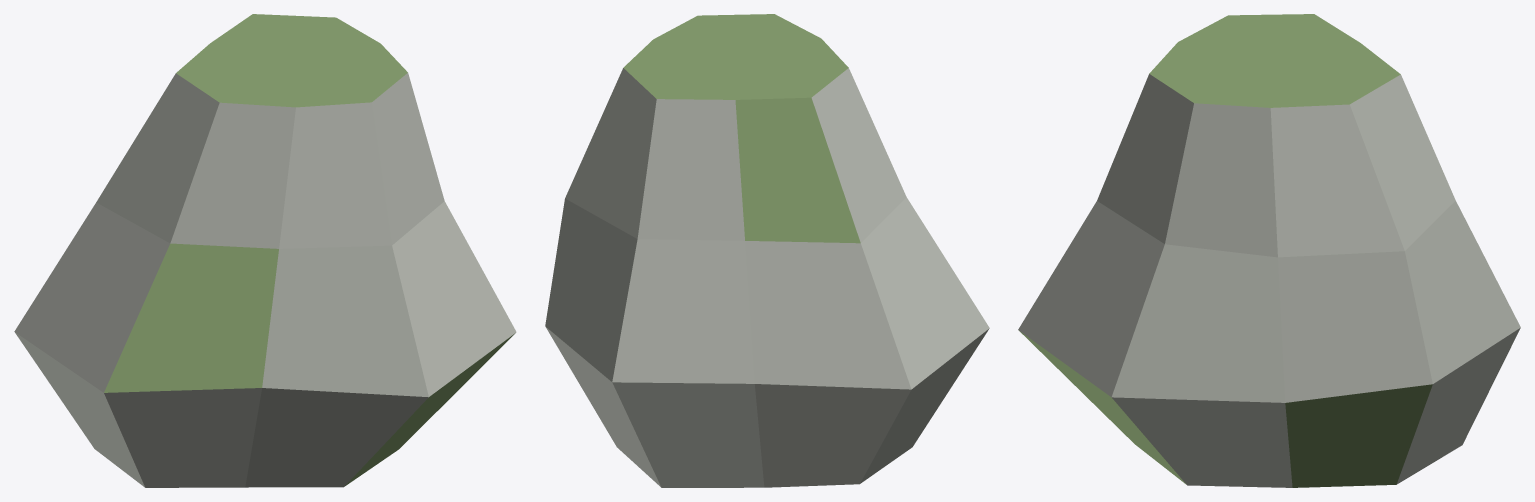
Rendered from root_rock.glb.
The picture shows the model from 3 angles, left to right: view 1: azimuth 30°, elevation 25°; view 2: azimuth 150°, elevation 25°; view 3: azimuth 270°, elevation 25°; orthographic projection. The views are drawn at different scales.
Visible parts, largest first — view 1: root_rock; view 2: root_rock; view 3: root_rock.
Part boxes in pixels (left/top/right/bottom): root_rock: left=14, top=14, right=516, bottom=487; root_rock: left=545, top=14, right=989, bottom=487; root_rock: left=1018, top=14, right=1520, bottom=487.
Bounding box in the file's own units: 0.96 × 0.88 × 1.03.
